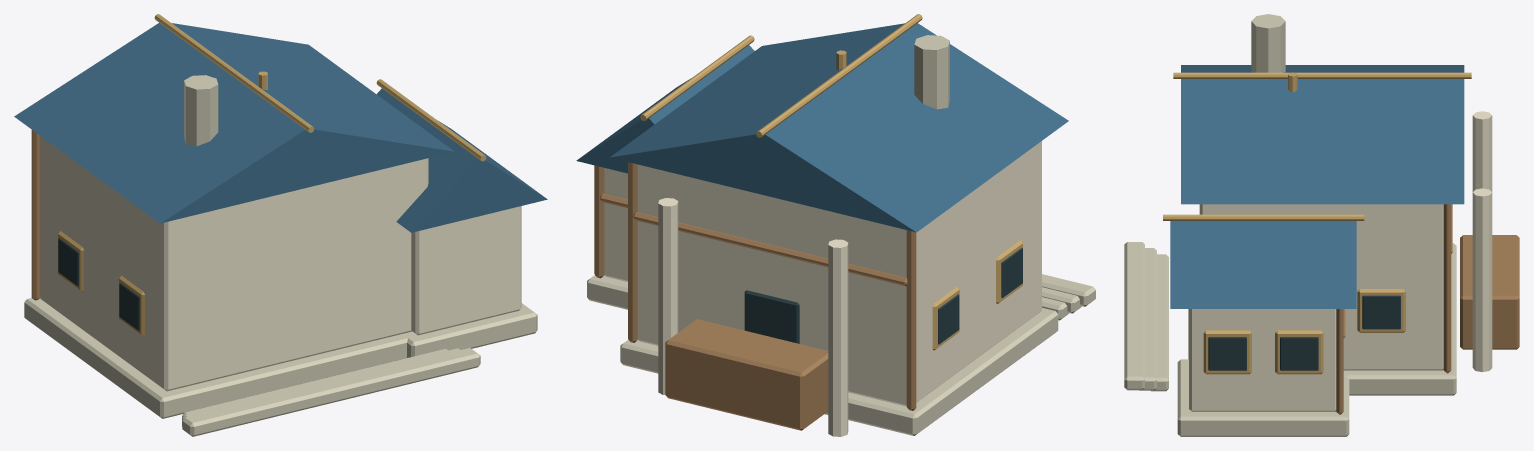
The model's file is level_22.glb.
The picture shows the model from 3 angles, left to right: view 1: azimuth 30°, elevation 25°; view 2: azimuth 150°, elevation 25°; view 3: azimuth 270°, elevation 25°; orthographic projection. The views are drawn at different scales.
Visible parts, largest first — view 1: workshop — level 22; view 2: workshop — level 22; view 3: workshop — level 22.
Boxes of the visible parts, x1,y1,x2,y2 form: workshop — level 22: (14,14,547,436); workshop — level 22: (576,14,1095,436); workshop — level 22: (1124,14,1519,436).
Bounding box in the file's own units: 5.74 × 4.13 × 5.3.
